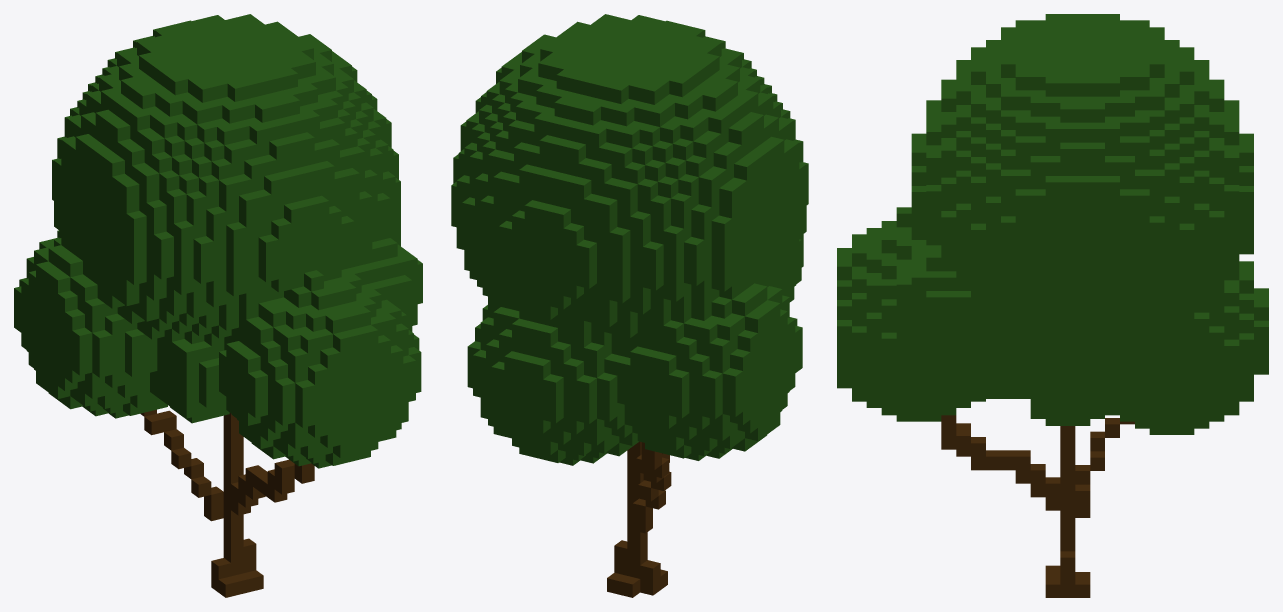
Rendered from bush6bb.obj.
3 renders of one model, left to right at view 1: azimuth 30°, elevation 25°; view 2: azimuth 150°, elevation 25°; view 3: azimuth 270°, elevation 25°, orthographic. The views are drawn at different scales.
Size of the model in its own units: 2.3 by 4 by 2.9.
Materials: 1 (1 with a texture image).
